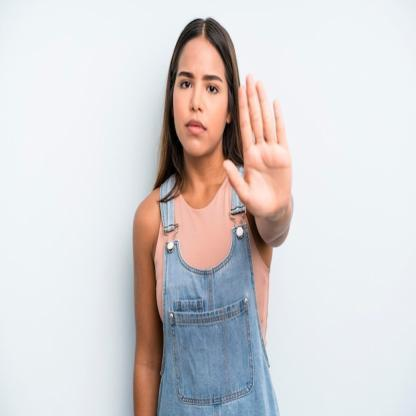stop: (221, 70, 296, 220)
